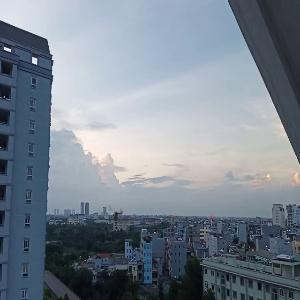drone: (97, 196, 138, 237)
